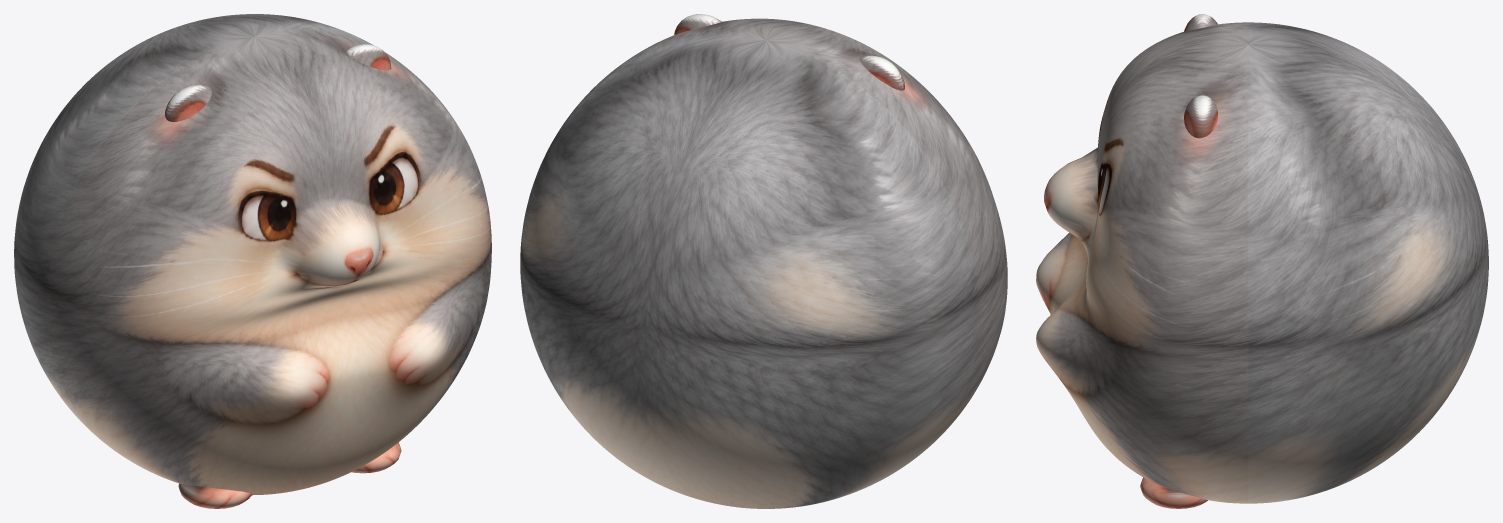
File: hc_hamster_curled_grey_05.glb
The picture shows the model from 3 angles, left to right: view 1: azimuth 30°, elevation 25°; view 2: azimuth 150°, elevation 25°; view 3: azimuth 270°, elevation 25°; orthographic projection. The views are drawn at different scales.
Parts seen in each view (by area): view 1: Hamster reference fitted; view 2: Hamster reference fitted; view 3: Hamster reference fitted.
Part boxes in pixels (x1=…): Hamster reference fitted: x1=14, y1=14, x2=491, y2=508; Hamster reference fitted: x1=520, y1=14, x2=1007, y2=508; Hamster reference fitted: x1=1036, y1=14, x2=1488, y2=508.
Bounding box in the file's own units: 2 × 2 × 1.88.
3 materials, 3 textured.
